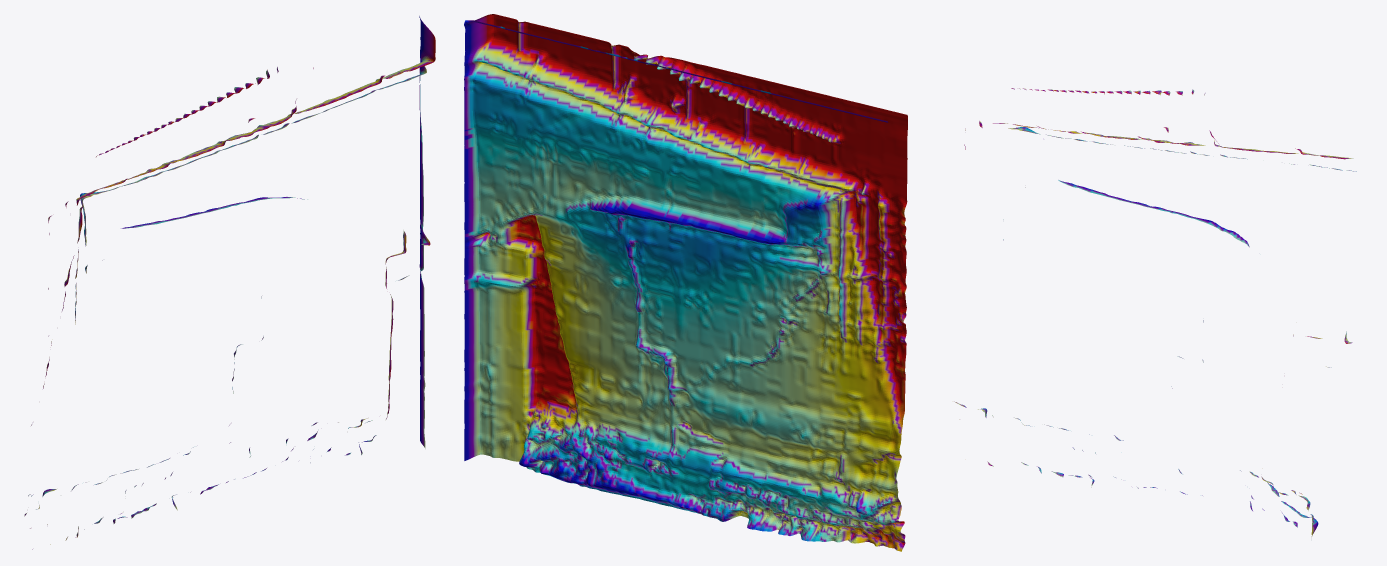
The picture shows the model from 3 angles, left to right: view 1: azimuth 30°, elevation 25°; view 2: azimuth 150°, elevation 25°; view 3: azimuth 330°, elevation 25°; orthographic projection. The views are drawn at different scales.
Parts seen in each view (by area): view 1: world; view 2: world; view 3: world.
Part boxes in pixels (bbox=[...]): world: bbox=[24, 16, 435, 549]; world: bbox=[464, 14, 907, 551]; world: bbox=[954, 88, 1356, 536].
Bounding box in the file's own units: 299 × 299 × 30.
